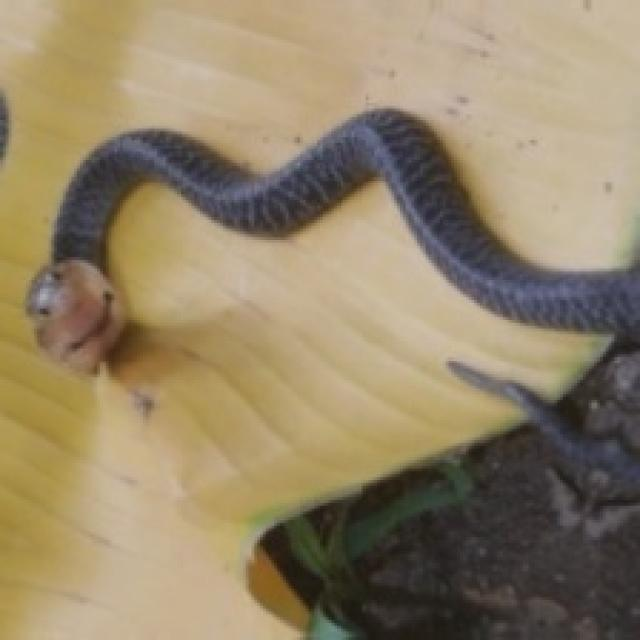philippine cobra: (29, 109, 637, 363)
